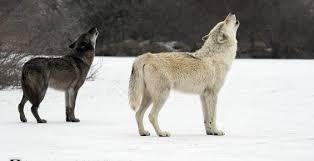Wolf: (126, 10, 240, 138), (16, 26, 100, 123)
